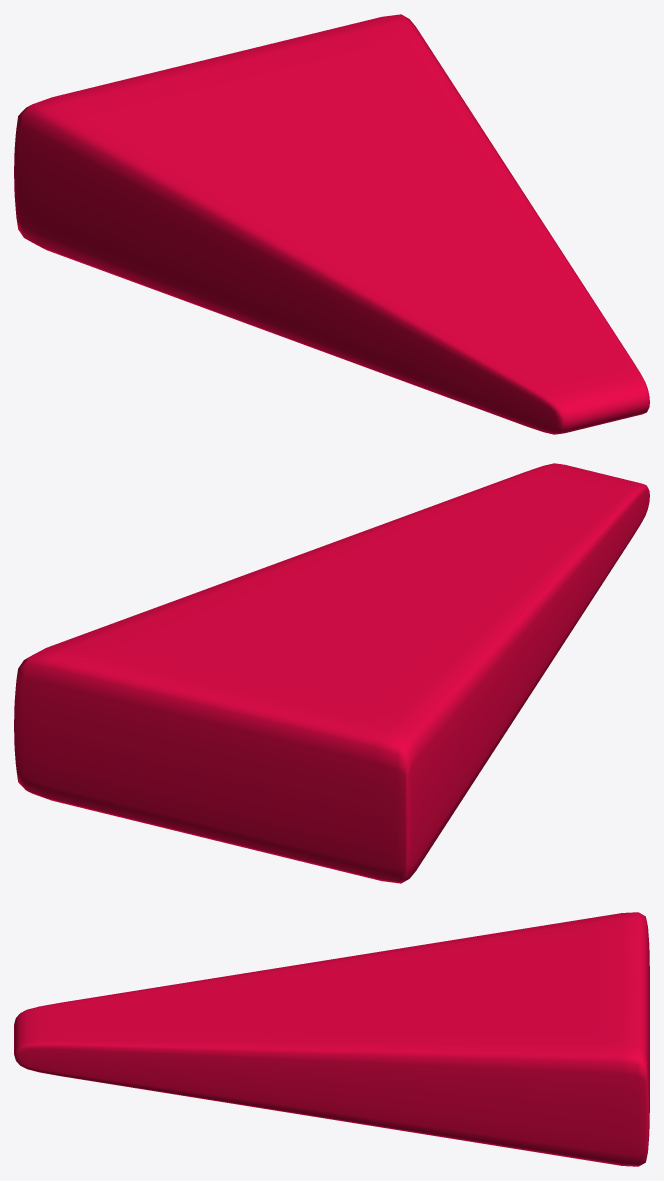
Rendered from Boids.fbx.
3 views of the same model, one above another, from view 1: azimuth 30°, elevation 25°; view 2: azimuth 150°, elevation 25°; view 3: azimuth 270°, elevation 25° (orthographic). The views are drawn at different scales.
Visible parts, largest first — view 1: pCube1; view 2: pCube1; view 3: pCube1.
Part boxes in pixels (<box>): pCube1: <box>14,14,649,434</box>; pCube1: <box>14,463,649,883</box>; pCube1: <box>14,912,649,1166</box>.
Size of the model in its own units: 0.9881 by 0.3448 by 1.72.
